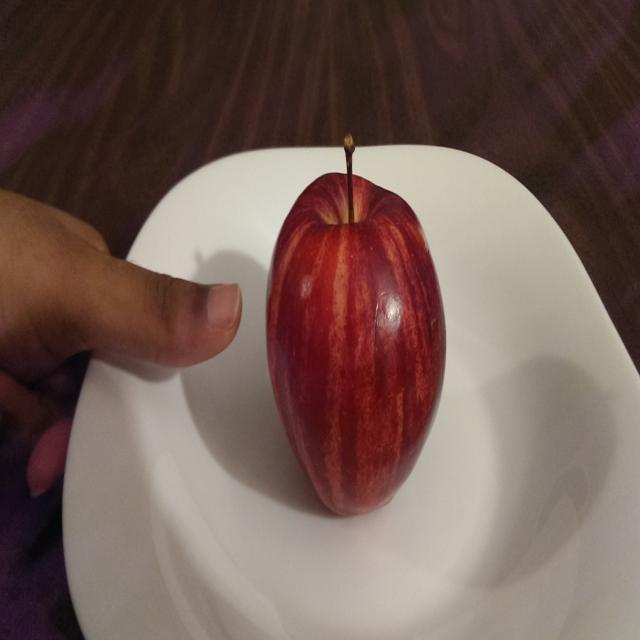apple: (257, 132, 455, 536)
